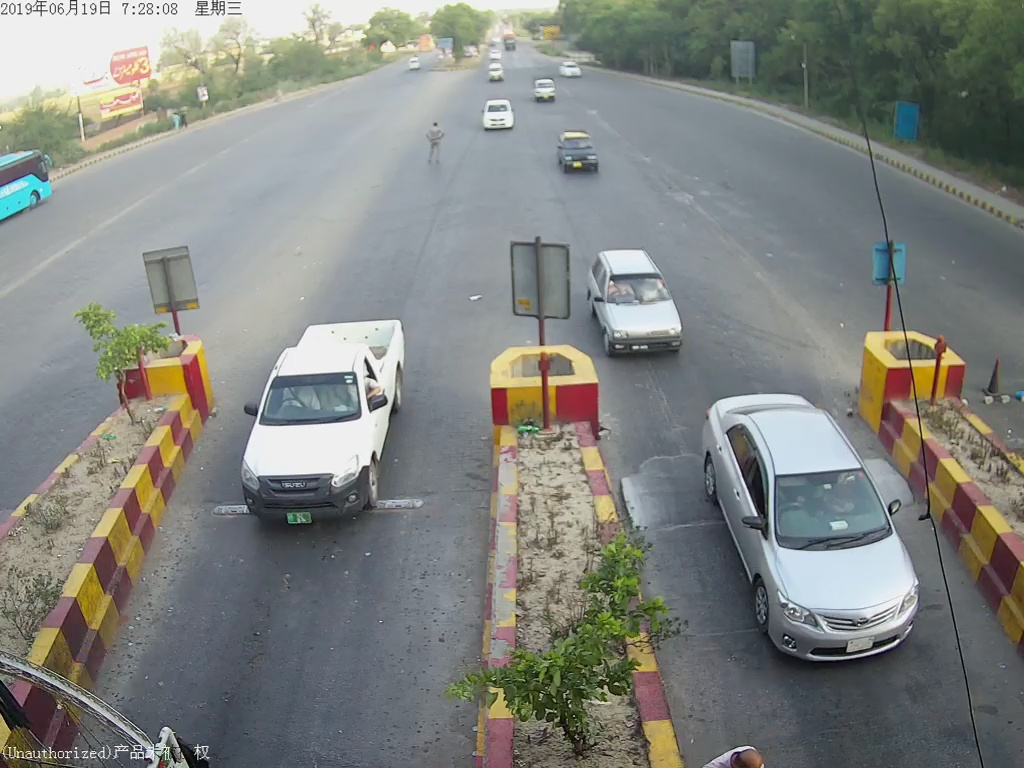Cat-1: (702, 391, 929, 662), (233, 314, 417, 522), (588, 247, 696, 362), (553, 128, 600, 179), (481, 100, 515, 133)
